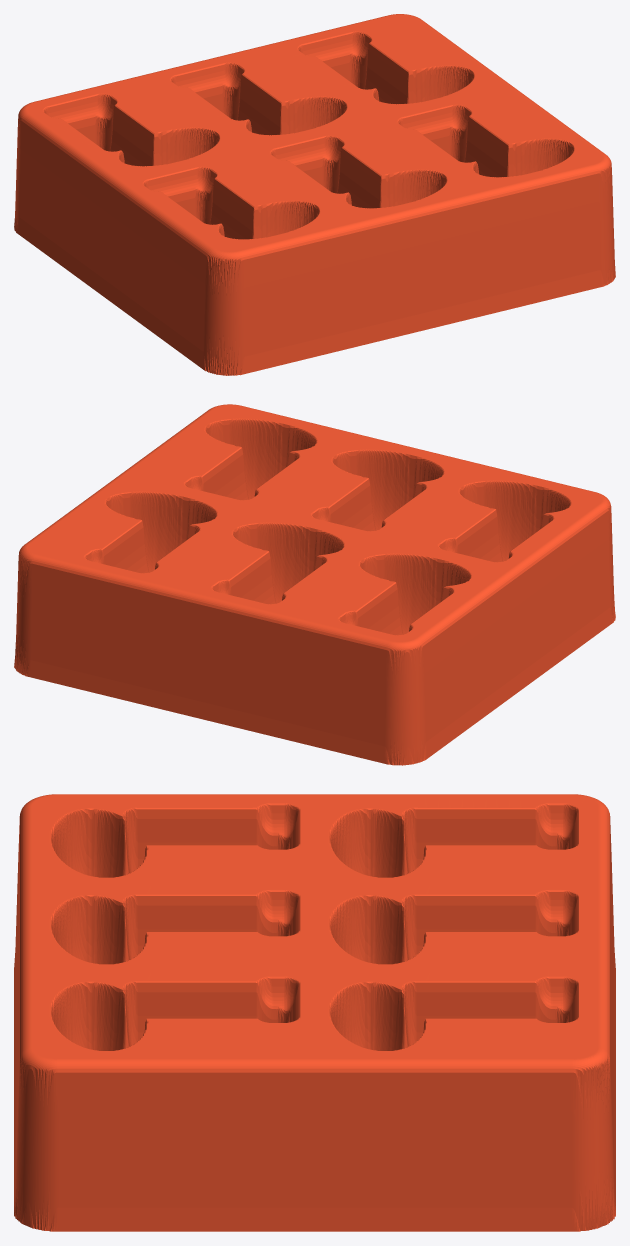
File: mold.glb
3 views of the same model, one above another, from view 1: azimuth 30°, elevation 25°; view 2: azimuth 150°, elevation 25°; view 3: azimuth 270°, elevation 25° (orthographic). The views are drawn at different scales.
Parts seen in each view (by area): view 1: geometry_0; view 2: geometry_0; view 3: geometry_0.
Part boxes in pixels (x1=…): geometry_0: x1=14, y1=14, x2=615, y2=375; geometry_0: x1=14, y1=404, x2=615, y2=765; geometry_0: x1=14, y1=794, x2=615, y2=1231.
Bounding box in the file's own units: 0.1366 × 0.0377 × 0.1246.
